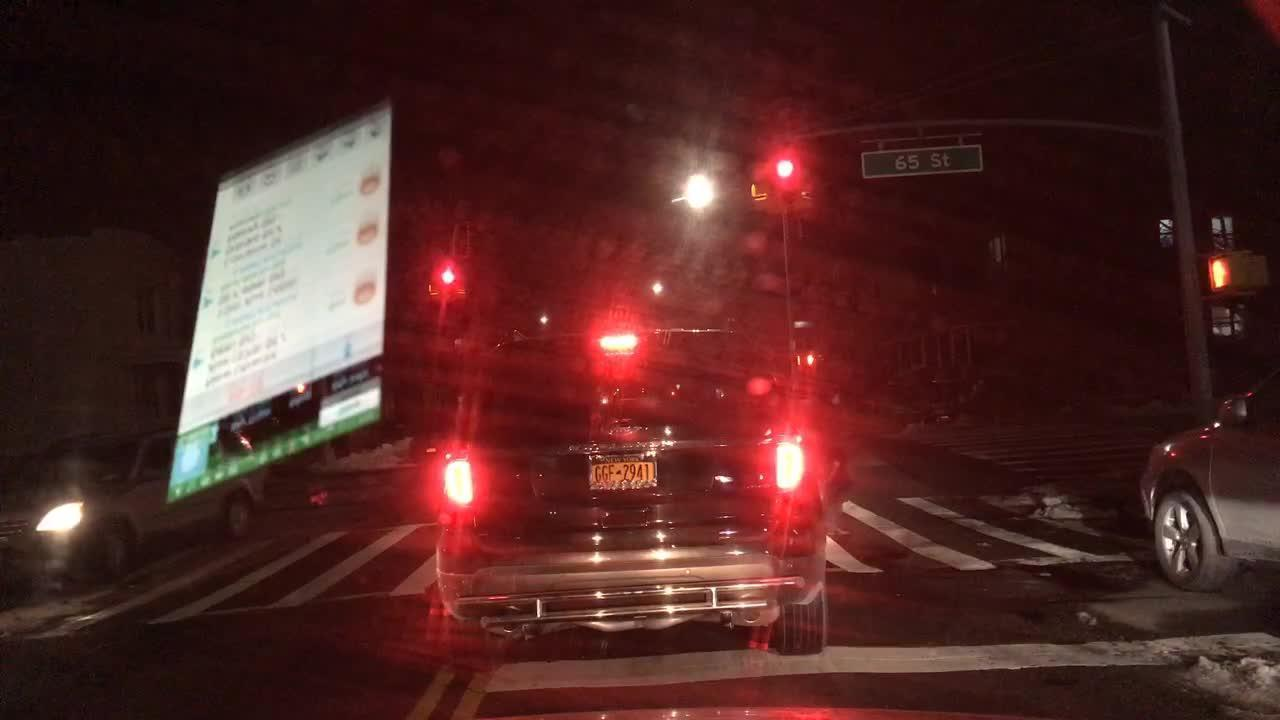ford: (600, 418, 645, 438)
